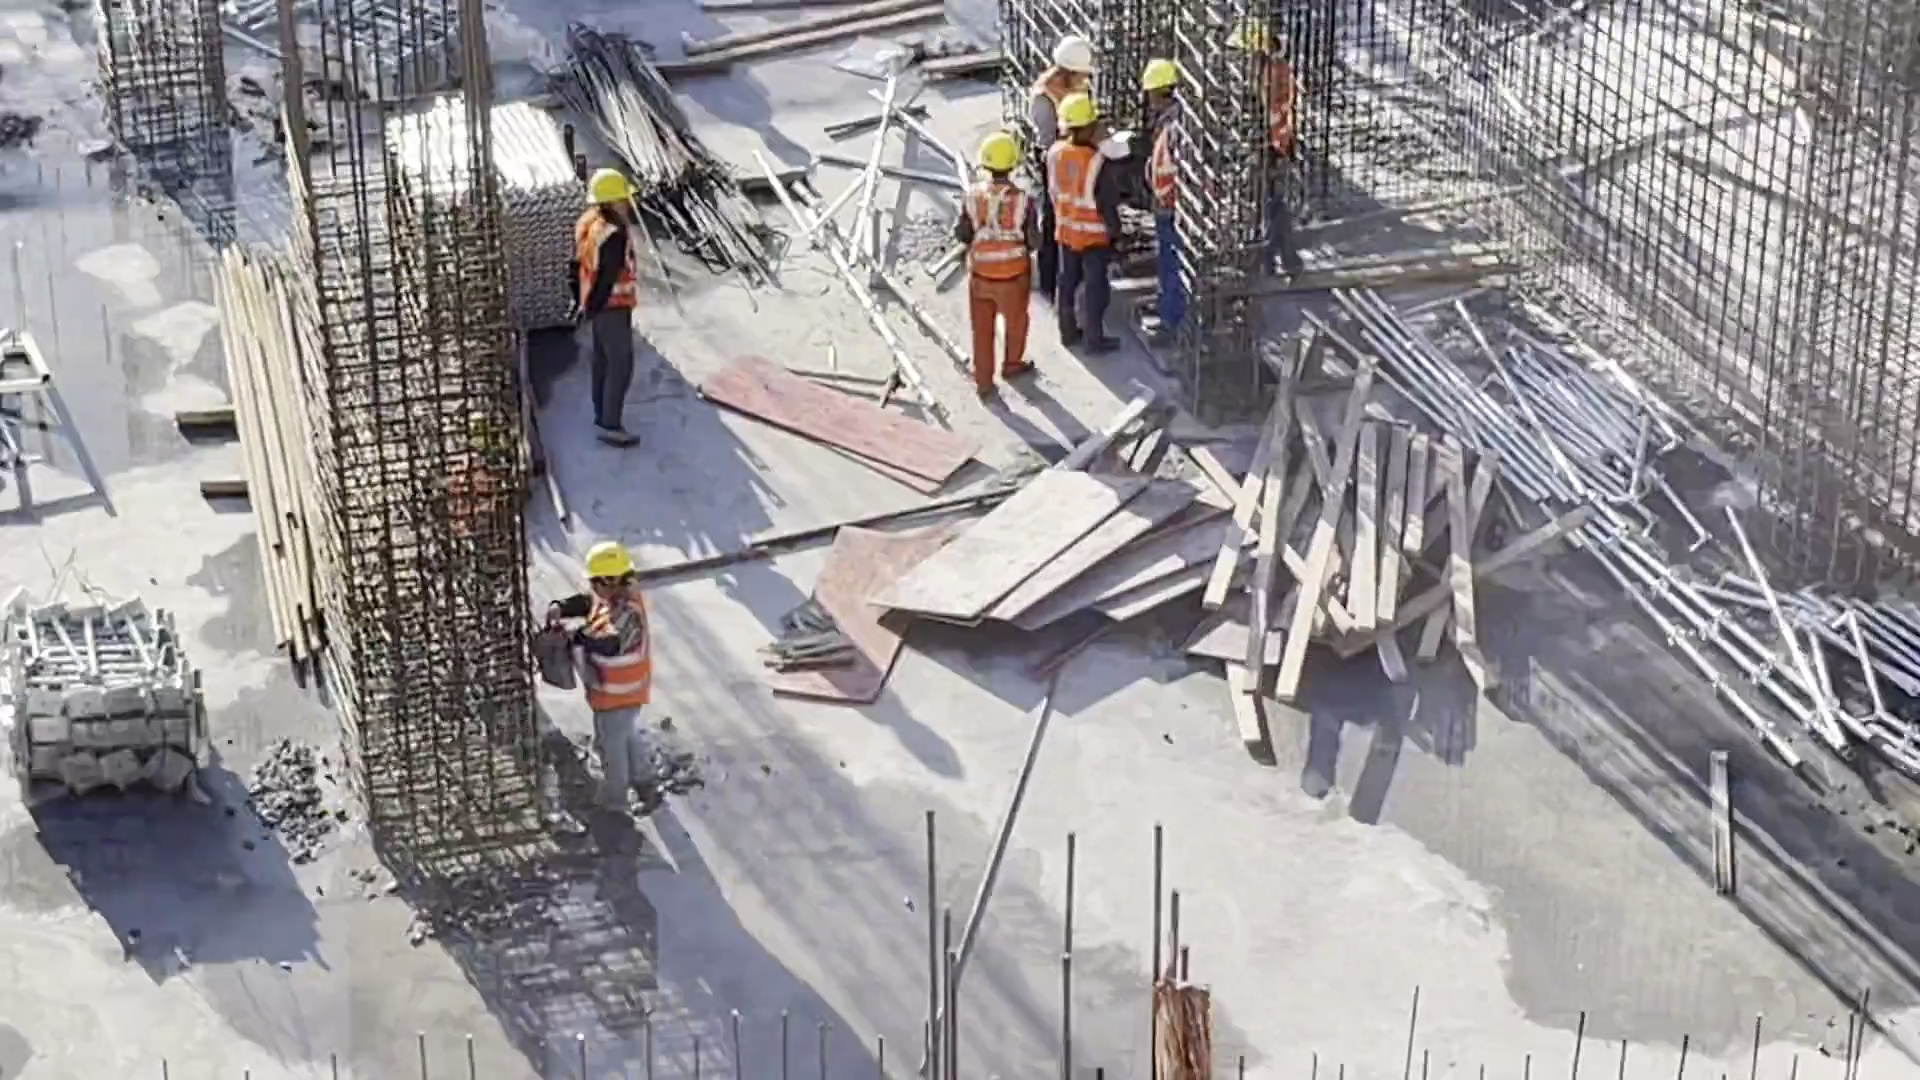helmet: (574, 528, 635, 588), (577, 163, 635, 209), (1137, 49, 1178, 94), (976, 132, 1022, 172), (1058, 90, 1094, 132), (1053, 34, 1091, 77)
person: (529, 537, 669, 820), (952, 122, 1048, 394), (563, 165, 653, 451), (1042, 88, 1129, 358), (1125, 62, 1195, 354), (1037, 35, 1096, 129)
vest: (959, 181, 1040, 387), (574, 597, 650, 713), (573, 211, 644, 310), (1053, 133, 1109, 255)
